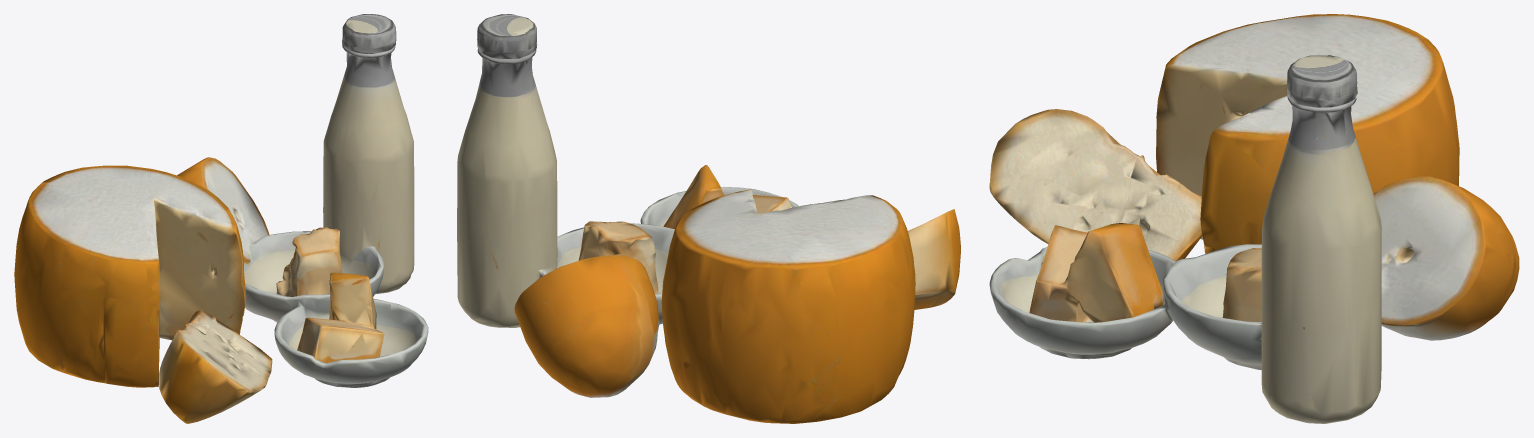
Rendered from dairy-display-lite.glb.
3 views of the same model, side by side, from view 1: azimuth 30°, elevation 25°; view 2: azimuth 150°, elevation 25°; view 3: azimuth 270°, elevation 25° (orthographic). The views are drawn at different scales.
Size of the model in its own units: 1.9 by 1.23 by 1.74.
Materials: 1 (1 with a texture image).
